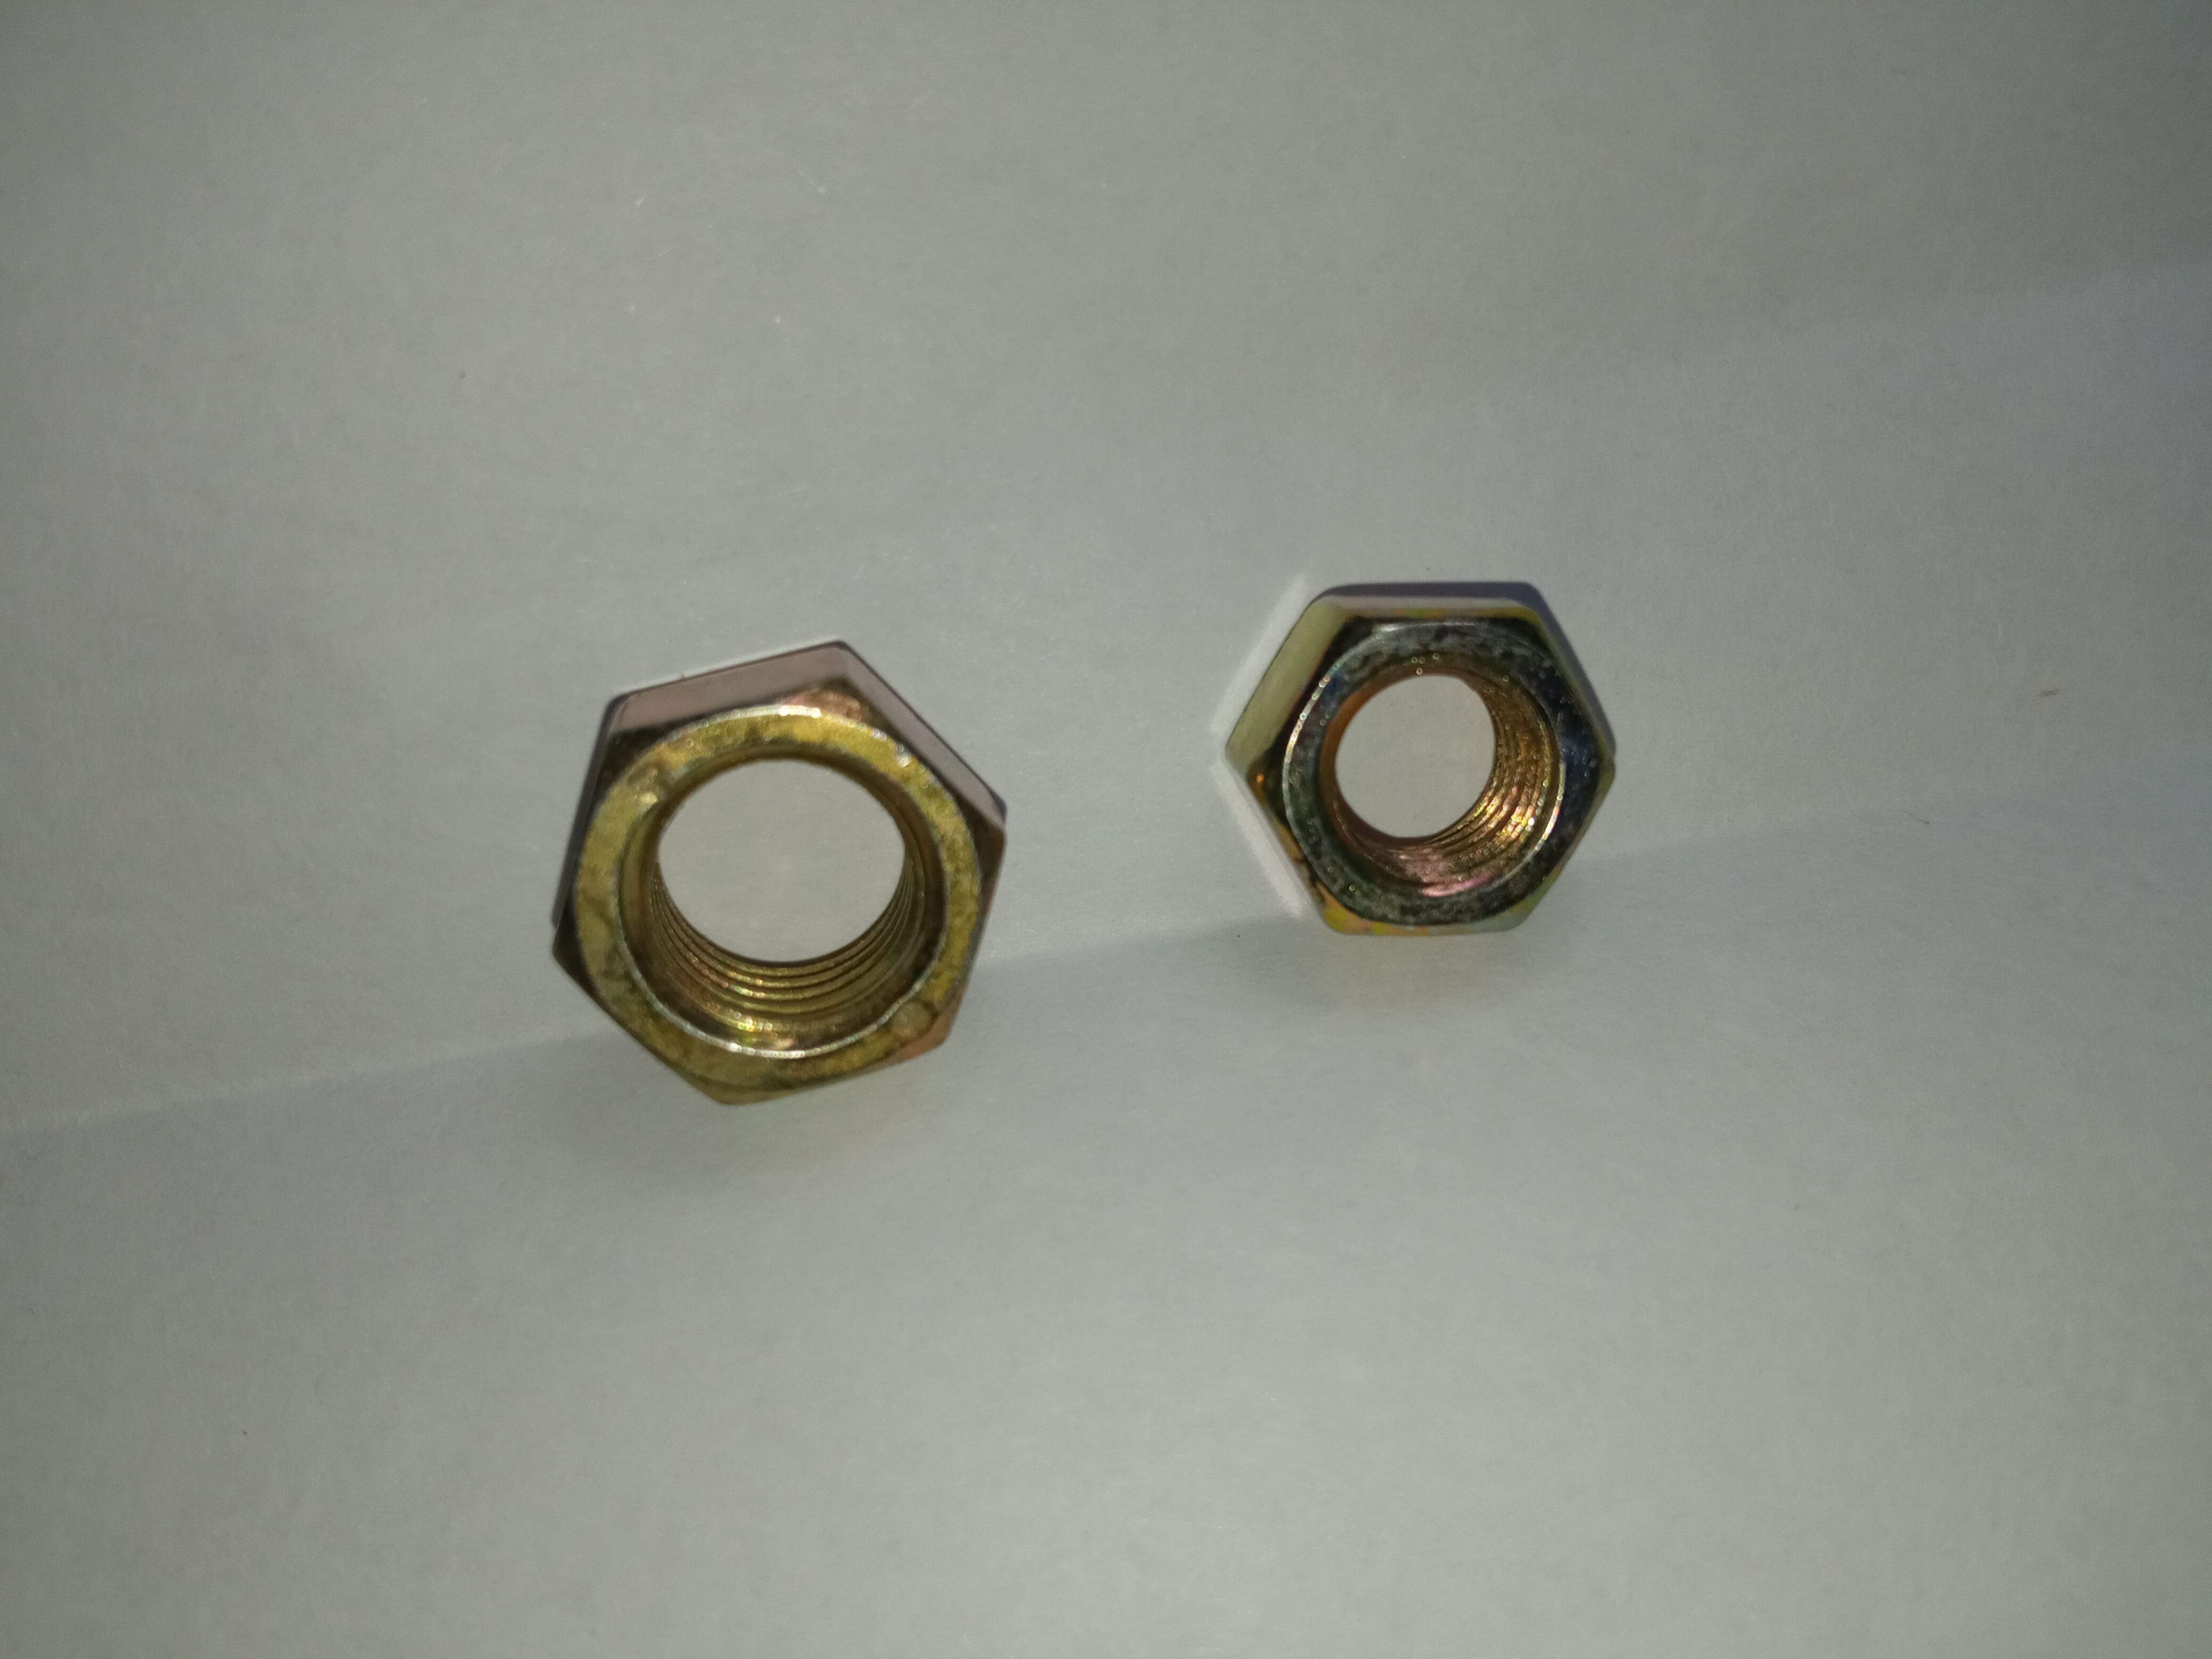m10: (549, 659, 982, 1070)
m8: (1252, 589, 1592, 925)
